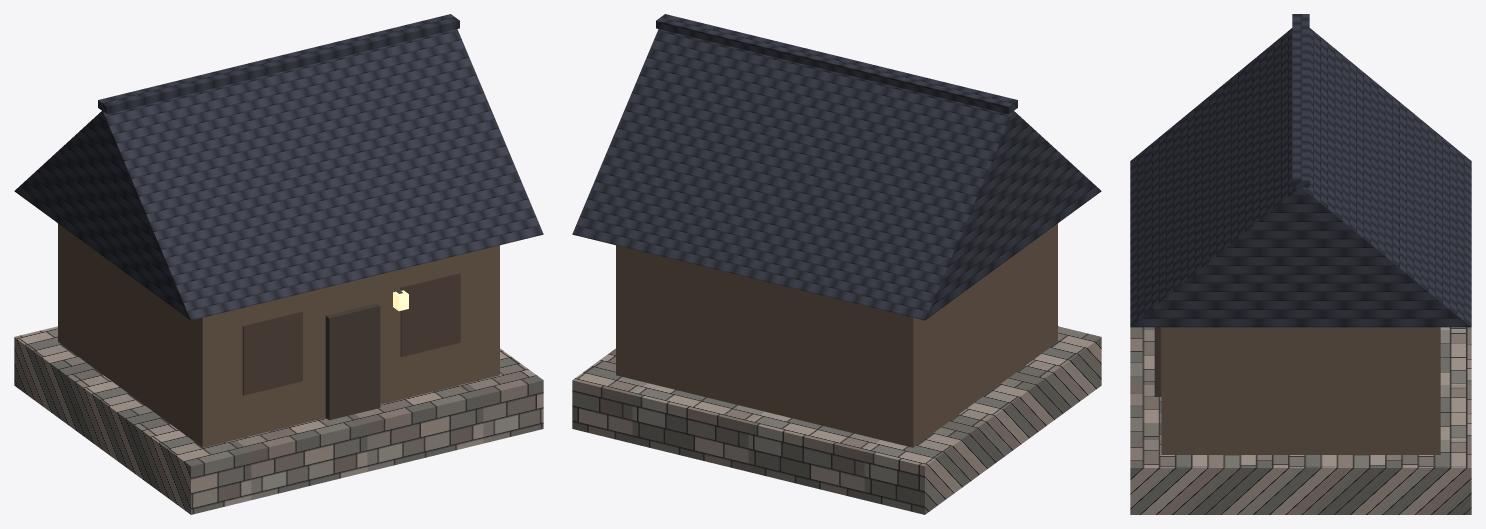
The model's file is cl-house-c.glb.
3 views of the same model, side by side, from view 1: azimuth 30°, elevation 25°; view 2: azimuth 150°, elevation 25°; view 3: azimuth 270°, elevation 25° (orthographic). The views are drawn at different scales.
Parts seen in each view (by area): view 1: cl_house_c; view 2: cl_house_c; view 3: cl_house_c.
Boxes of the visible parts, box(x1,y1,x2,y2) form: cl_house_c: box(14, 14, 543, 514); cl_house_c: box(572, 14, 1101, 514); cl_house_c: box(1130, 14, 1471, 514).
Bounding box in the file's own units: 7.6 × 7.14 × 6.6.
Materials: 8 (2 with a texture image).
